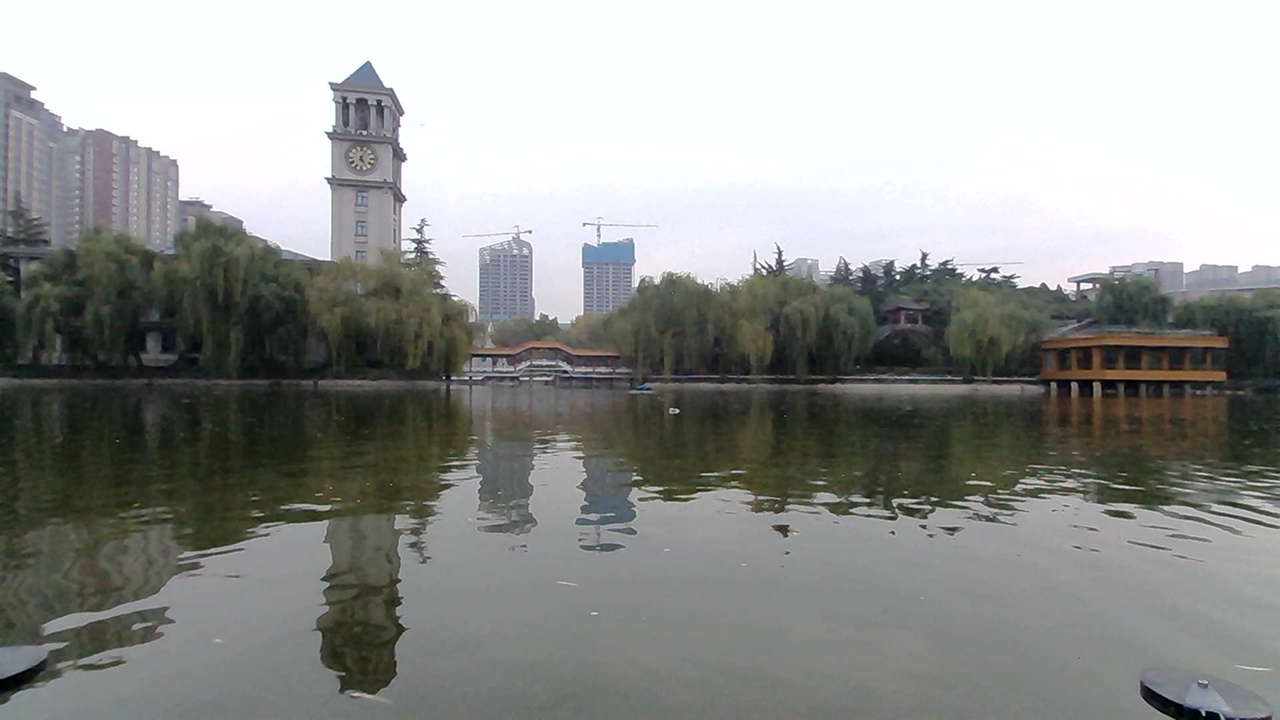bottle: (653, 398, 699, 422)
